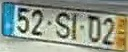0: (87, 15, 101, 43)
2: (100, 16, 115, 45), (30, 8, 44, 36)
5: (15, 6, 30, 34)
I: (70, 12, 77, 41)
S: (54, 10, 71, 39)
